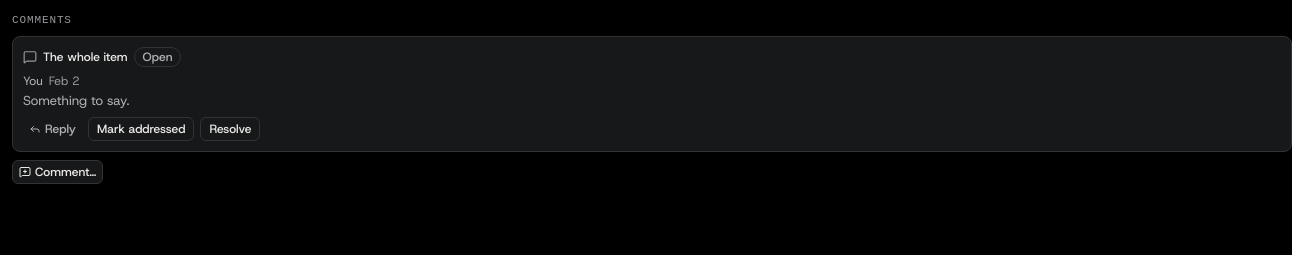
Scenario: the comments panel › shows the host's refusal instead of pretending the write happened
This screenshot has width=1292, height=255.
Click the button "Resolve": (230, 129) [200,117,260,141]
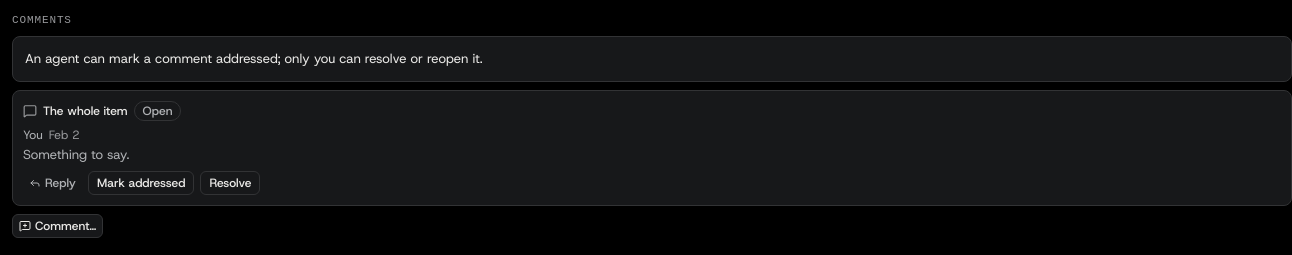
Expected: the text "only you can resolve or reopen it" is shown, [25,50,483,67]
